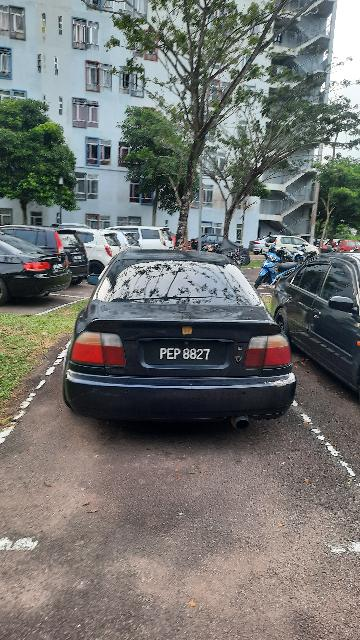License_Plate: (142, 339, 233, 370)
car: (59, 244, 302, 439)
